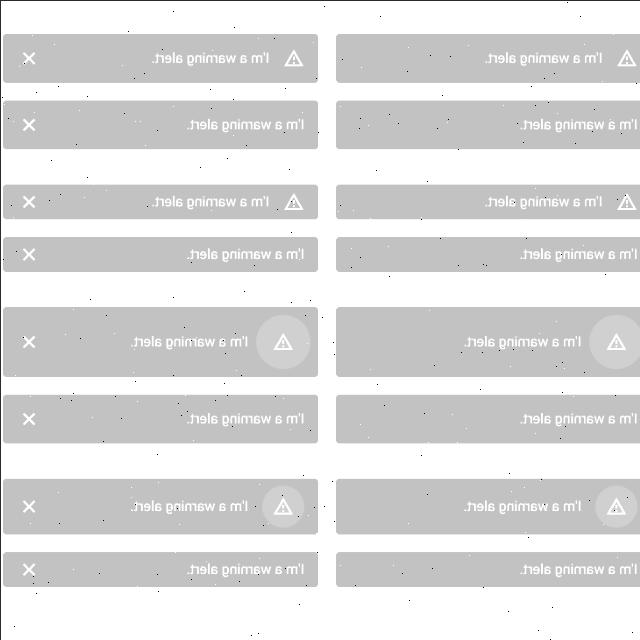QLabel: (128, 498, 248, 516), (186, 246, 304, 264), (519, 560, 637, 578), (482, 49, 602, 66), (128, 334, 248, 351), (183, 409, 303, 426), (517, 116, 639, 132), (482, 194, 602, 210), (517, 246, 637, 262), (462, 334, 582, 350), (151, 50, 269, 66), (185, 116, 303, 132), (150, 194, 268, 210), (186, 562, 304, 578), (463, 499, 581, 515), (519, 412, 637, 426)
VAlert: (1, 306, 318, 376), (334, 306, 640, 376), (334, 32, 640, 90), (2, 478, 318, 534), (334, 478, 640, 534), (2, 32, 318, 82), (2, 99, 318, 149), (2, 394, 318, 444), (334, 393, 640, 442), (336, 100, 640, 148), (2, 236, 318, 272), (2, 551, 318, 587), (1, 184, 317, 218), (334, 184, 640, 218), (334, 236, 640, 270), (334, 552, 640, 586)
VIcon: (270, 497, 296, 517), (284, 46, 304, 66), (616, 192, 636, 210), (272, 332, 292, 350), (605, 332, 625, 350), (604, 498, 626, 514), (616, 49, 636, 66), (19, 192, 36, 210), (20, 50, 38, 66), (20, 244, 36, 262), (22, 116, 36, 132), (20, 412, 34, 426), (22, 561, 34, 577), (22, 335, 34, 347), (22, 500, 34, 512)
